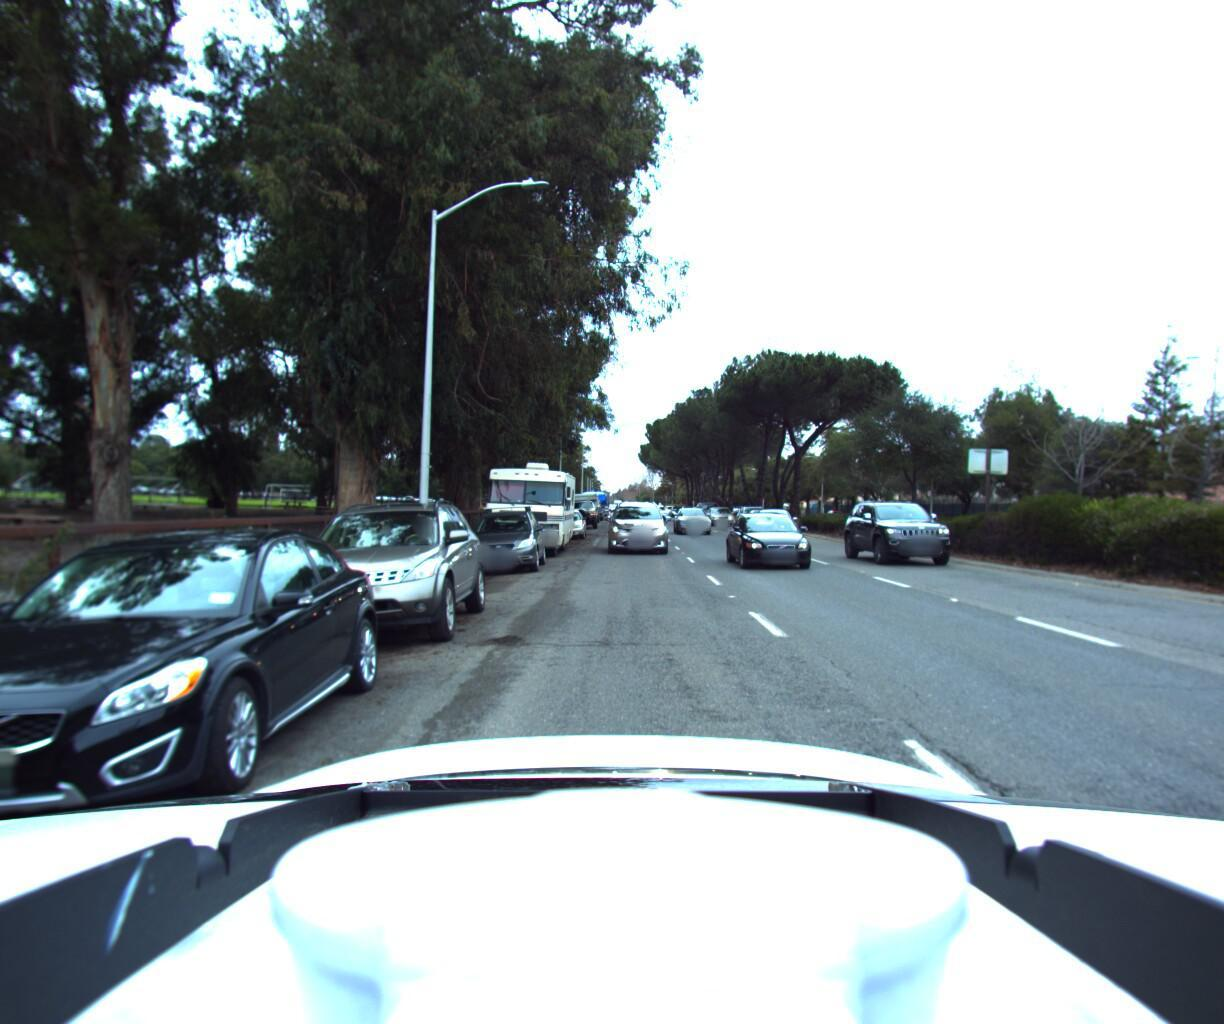car: (0, 511, 395, 874), (246, 486, 492, 660), (837, 492, 970, 567), (453, 500, 549, 576), (727, 507, 832, 573), (599, 490, 670, 550), (542, 505, 586, 541), (674, 502, 713, 535), (703, 502, 738, 524)
other_vehicle: (475, 460, 576, 559), (558, 488, 600, 529)
